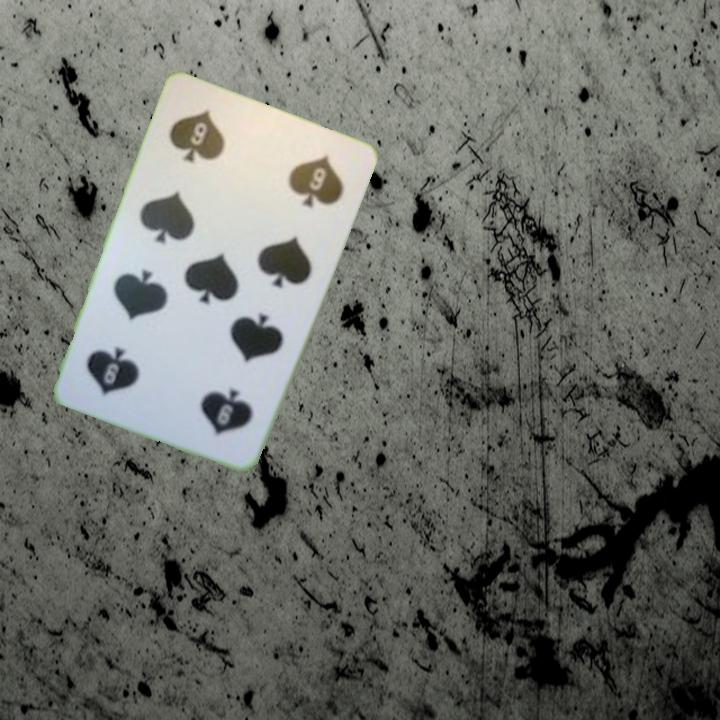s_9.png: (154, 343, 276, 457), (150, 89, 272, 203)
